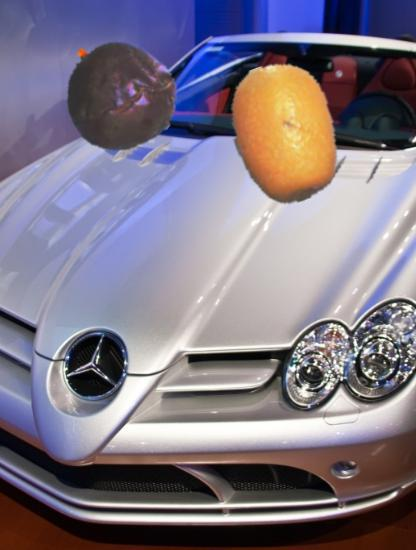Kumquats: (214, 62, 357, 205)
Passion: (59, 38, 177, 156)
